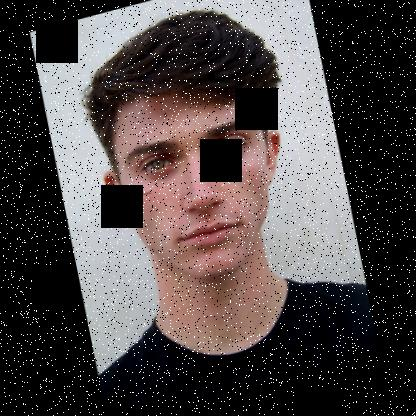Male: (85, 64, 305, 306)
